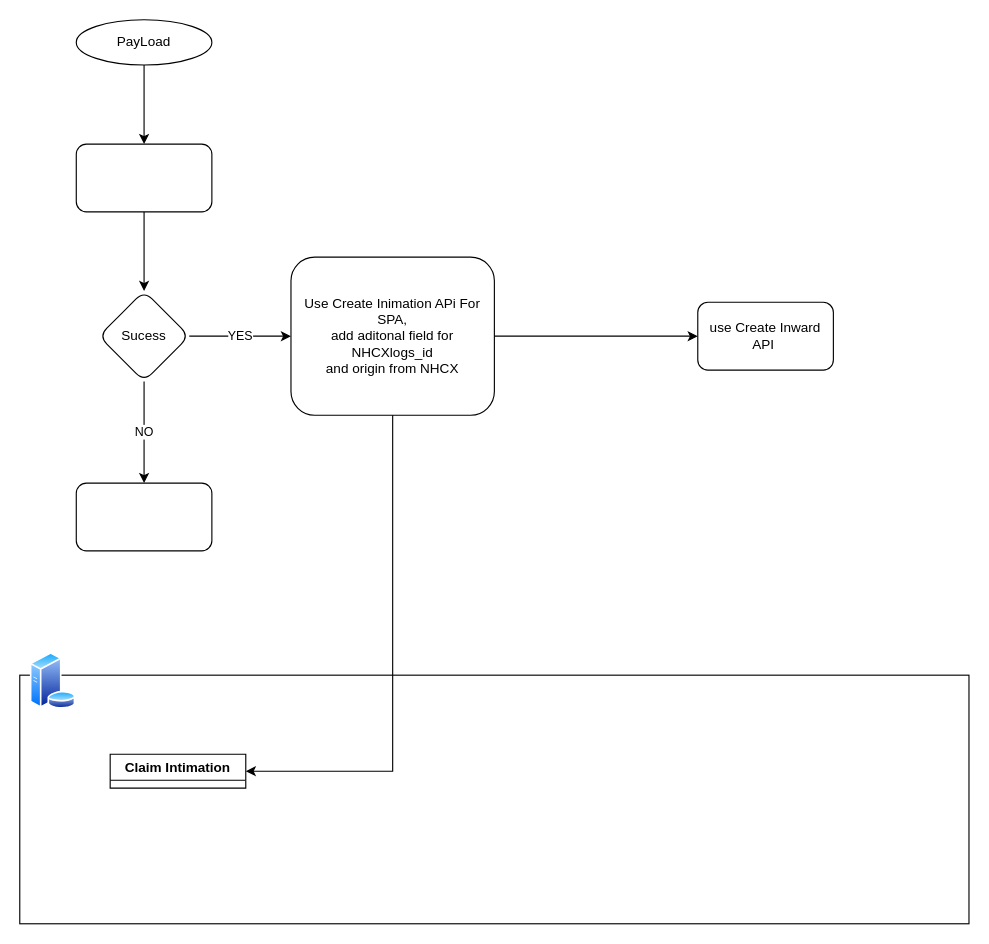
The diagram is 989 pixels wide and 944 high, and some of its shapes have lost their labels. Each missing label, with the centre of its shape:
"return Error with proper key missed in payload" belongs at (x=143, y=516).
"Validate If Payload has all data present" belongs at (x=143, y=177).
